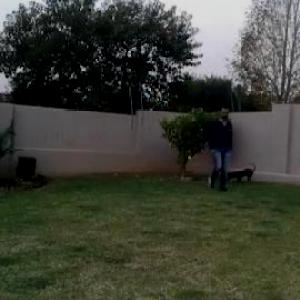follow: (206, 102, 234, 196)
